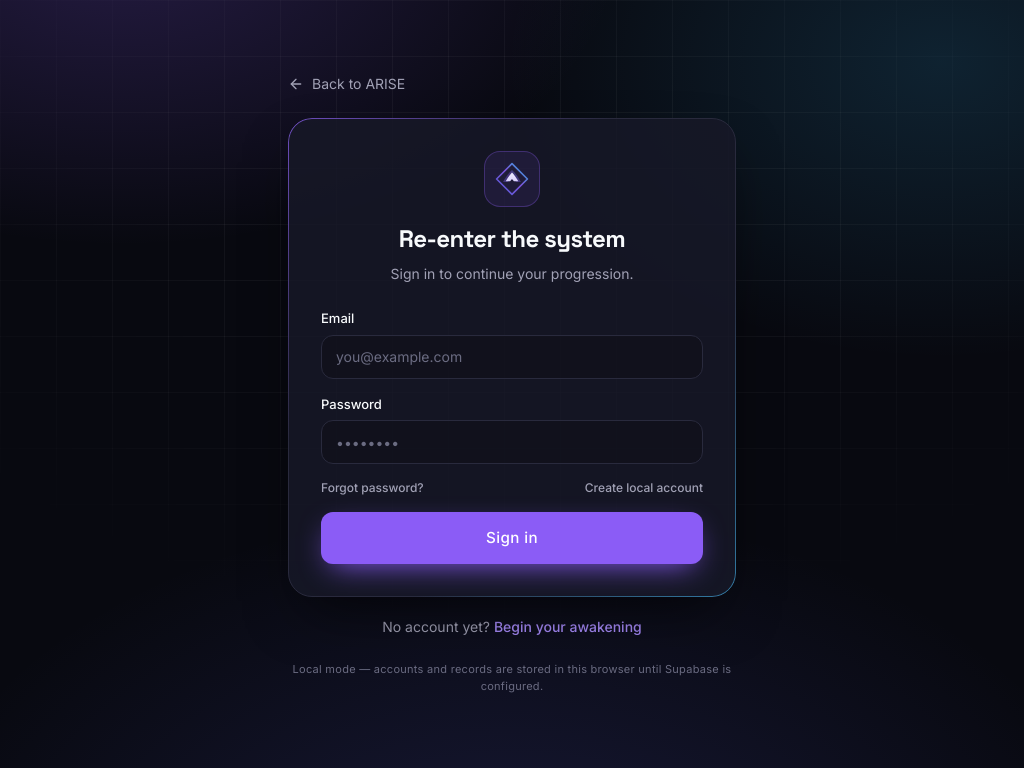
LoginPage › validates the form before submitting
The width and height of the screenshot is (1024, 768).
Click the button "Sign in". click: (512, 538)
box: [321,512,703,564]
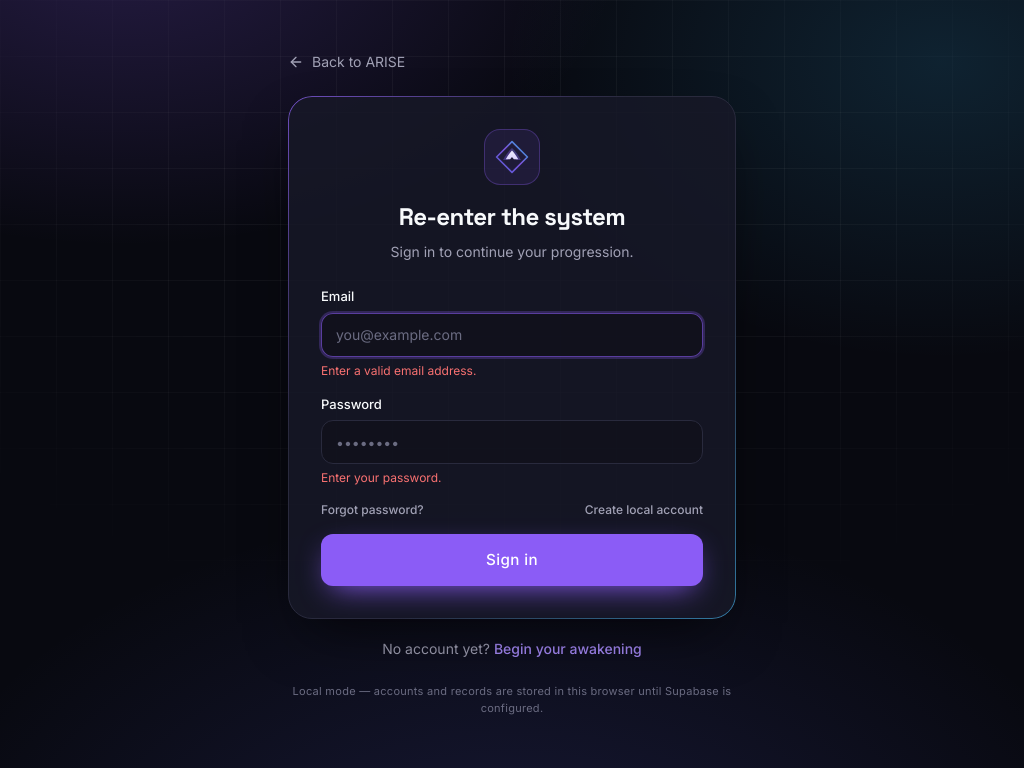
Check: the text "Enter a valid email address." is shown, box [321,363,476,378]
Check: the text "Enter your password." is shown, box [321,470,442,485]
